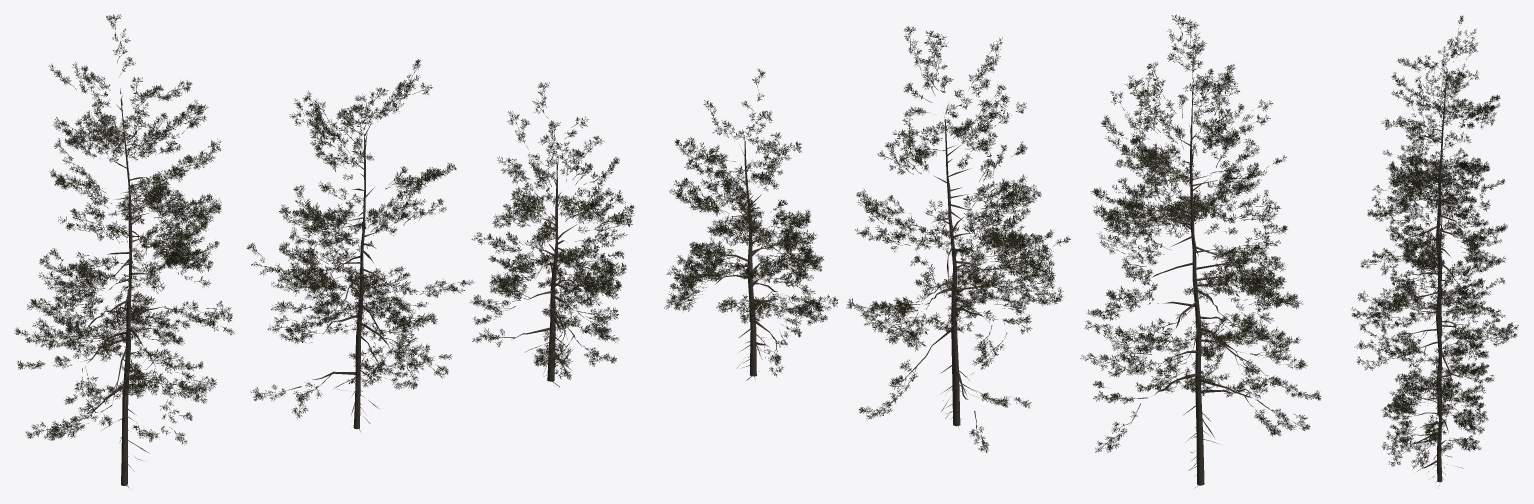
File: village-pbr-pine_sapling_medium.glb
3 renders of one model, left to right at view 1: azimuth 30°, elevation 25°; view 2: azimuth 150°, elevation 25°; view 3: azimuth 270°, elevation 25°, orthographic. The views are drawn at different scales.
Visible parts, largest first — view 1: pine_sapling_medium_a_LOD0; view 2: pine_sapling_medium_a_LOD0; view 3: pine_sapling_medium_a_LOD0.
Boxes of the visible parts, <box> form: pine_sapling_medium_a_LOD0: <box>14,14,634,487</box>; pine_sapling_medium_a_LOD0: <box>664,14,1321,488</box>; pine_sapling_medium_a_LOD0: <box>1351,16,1518,488</box>.
Bounding box in the file's own units: 15.49 × 11.5 × 5.4.
3 materials, 3 textured.
